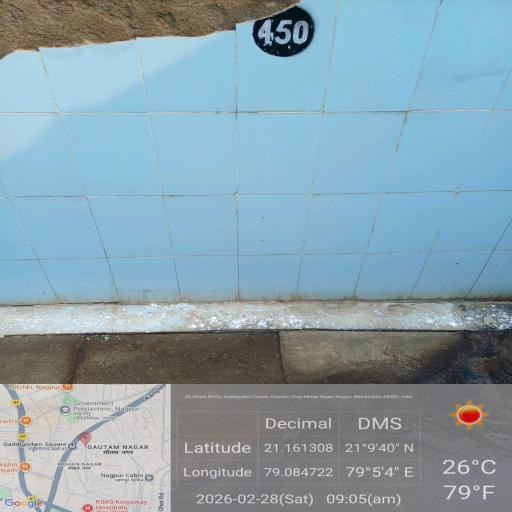damage: (4, 0, 358, 148)
partial_dirty_floor: (10, 234, 484, 512)
